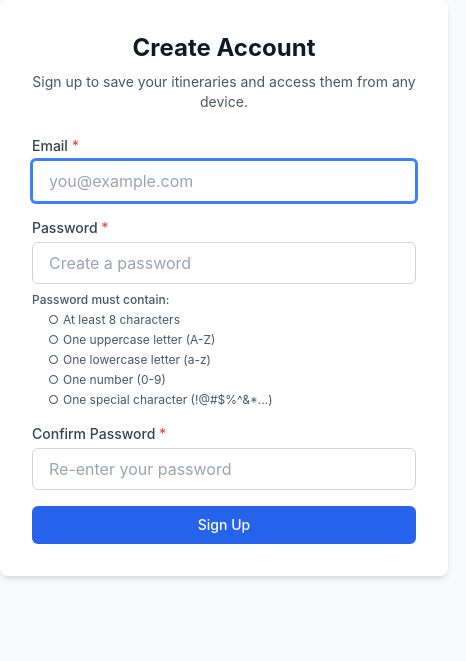
Test case: Authentication Error Messages › Sign-Up Error Messages › should display specific error when user already exists
Type "existing@example.com" into the field labelled "Email *" at (224, 181), box [32,160,416,202]
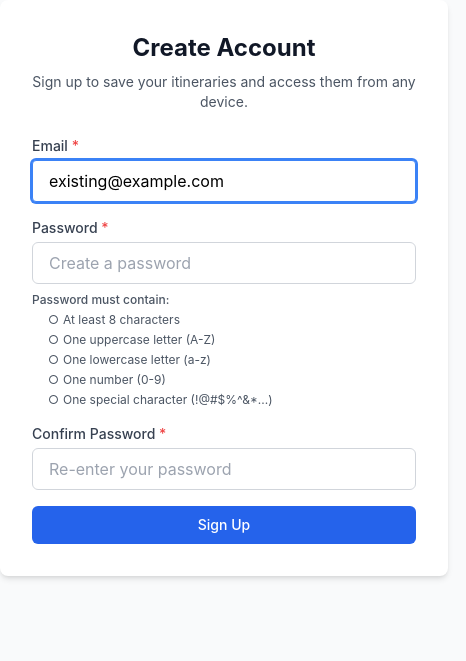
Type "Password123!" into the password field labelled "Password *" at (224, 263), box [32,242,416,284]
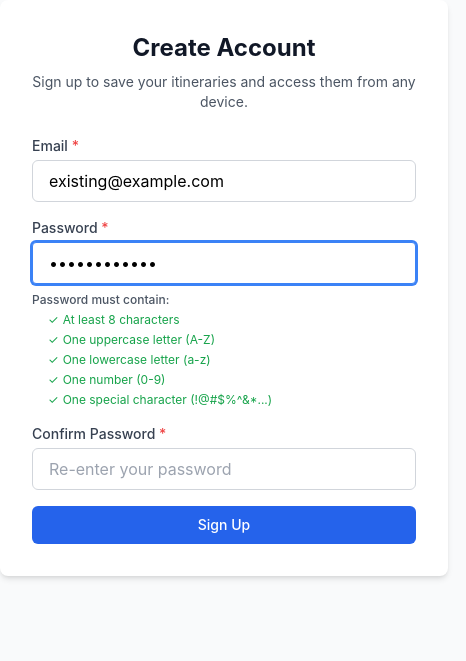
Type "Password123!" into the password field labelled "Confirm Password *" at (224, 469), box [32,448,416,490]
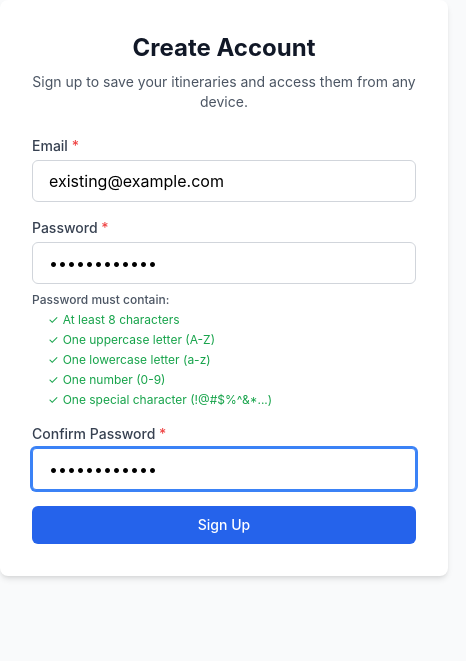
Note: Submit form
Click the button "Sign Up" at (224, 525), box [32,506,416,544]
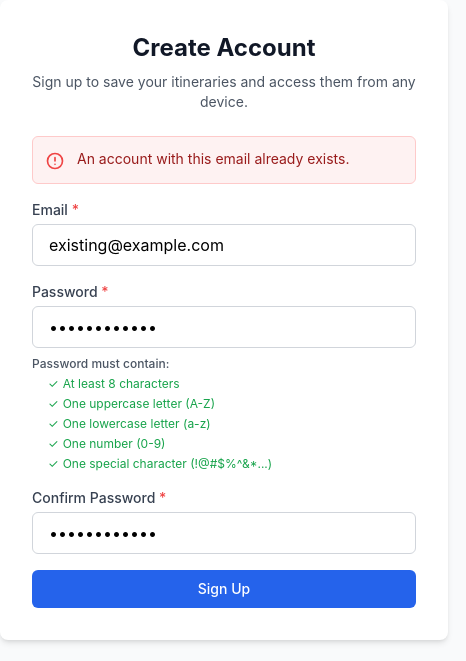
Check: the text "An account with this email already exists." is shown, box [77,149,350,169]
